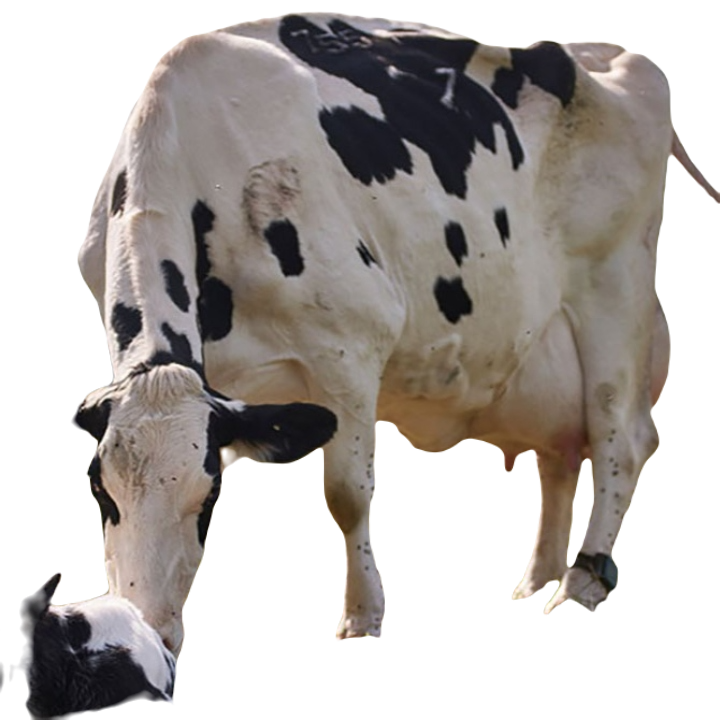Cow: (73, 10, 675, 701)
